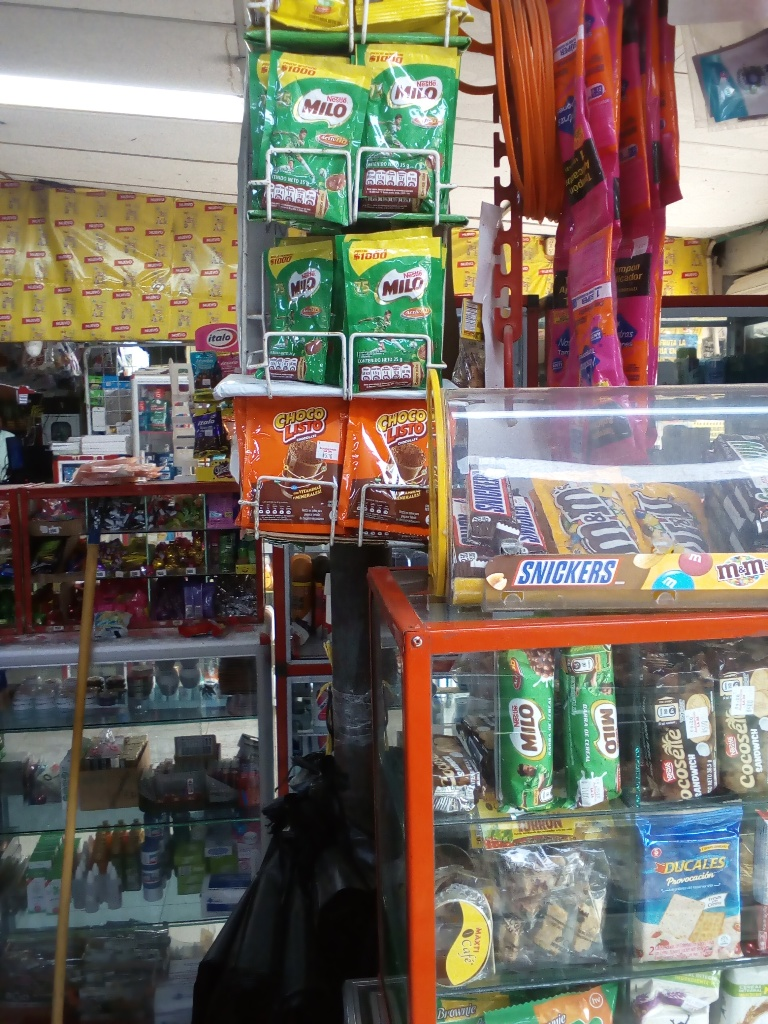COL0170103SOB02000: (237, 402, 339, 550)
